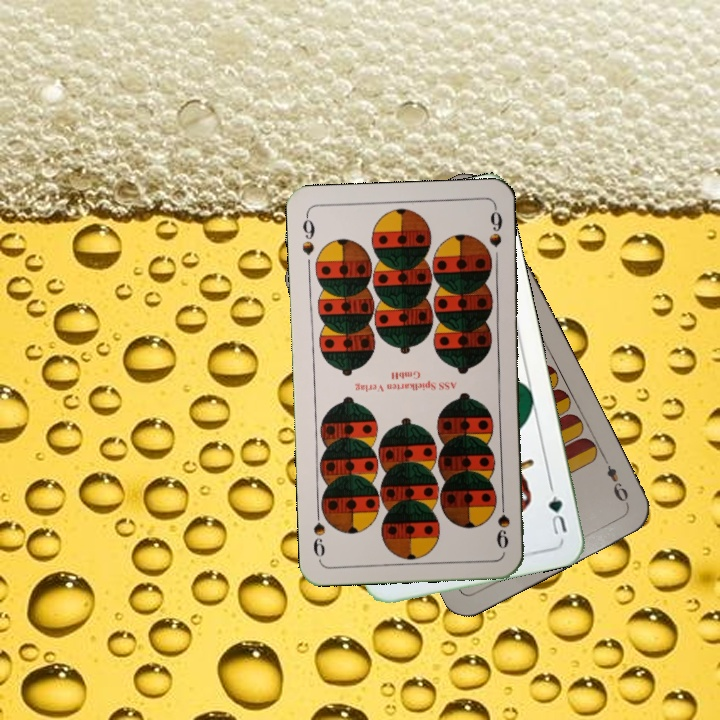E9: (602, 461, 632, 508)
GU: (544, 491, 570, 538)
S9: (492, 493, 513, 552), (298, 210, 317, 258)
